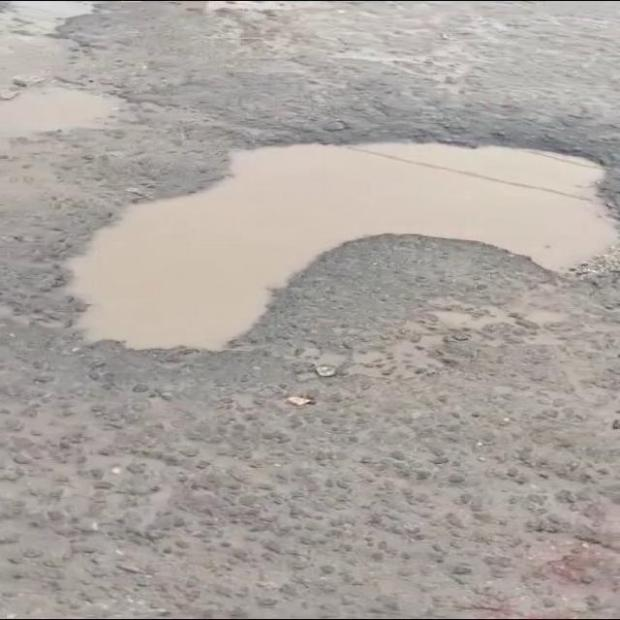lubang: (69, 143, 619, 350), (0, 78, 122, 154)
